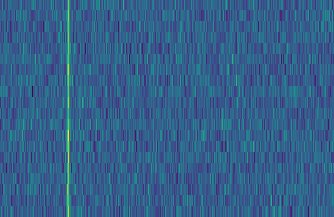signal: (60, 0, 69, 217)
